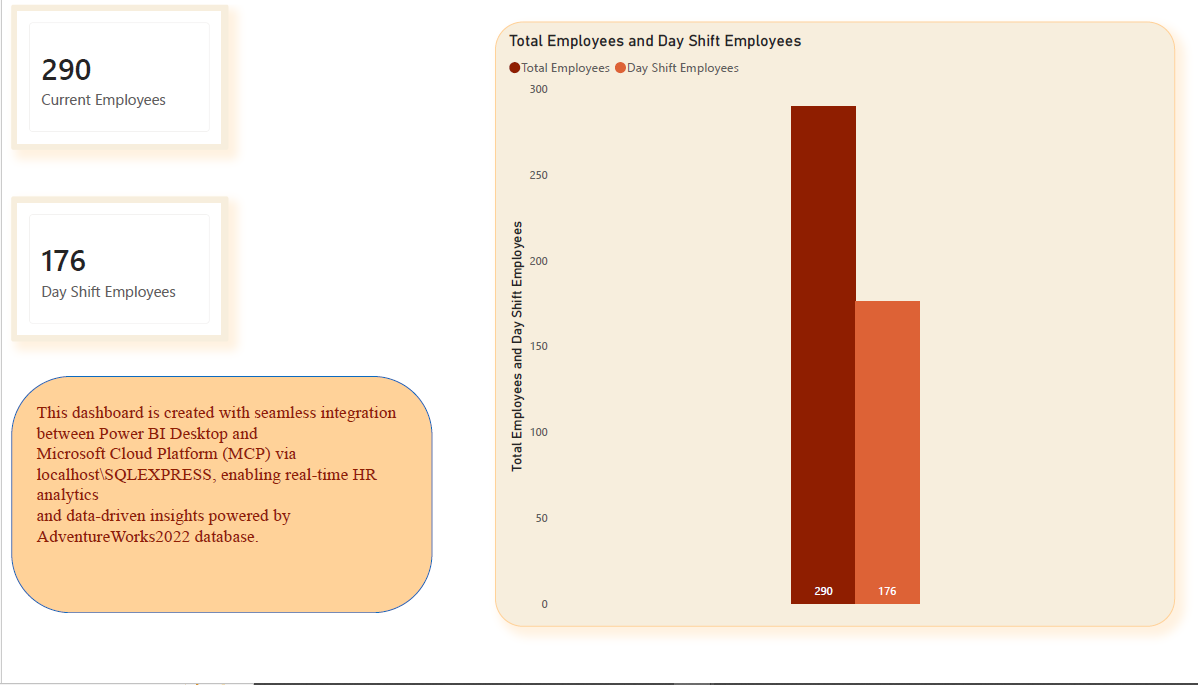

This screenshot's page, from the dashboard's own definition file:
{"tool":"powerbi","page":{"name":"Page 1","canvas":[1280,720],"ordinal":0},"visuals":[{"type":"cardVisual","fields":{"Data":["HumanResources Employee.Current Employees"]},"box":[10,0,231.7,155],"z":0},{"type":"cardVisual","fields":{"Data":["HumanResources Shift.Day Shift Employees"]},"box":[10,205,231.7,155],"z":1000},{"type":"clusteredColumnChart","fields":{"Y":["HumanResources Employee.Total Employees","HumanResources Shift.Day Shift Employees"]},"box":[526.7,18.3,726.7,646.7],"z":2000},{"type":"shape","box":[10,396.7,450,253.3],"z":3000},{"type":"textbox","box":[31.7,420,408.3,210],"z":4000}]}

Visuals, with their boxes in screenshot pixels (x1, y1, x2, y2), scaled from the page's 1280x720 canvas onto the 1198x685 screenshot:
cardVisual - HumanResources Employee.Current Employees: {"left": 9, "top": 0, "right": 226, "bottom": 147}
cardVisual - HumanResources Shift.Day Shift Employees: {"left": 9, "top": 195, "right": 226, "bottom": 342}
clusteredColumnChart - HumanResources Employee.Total Employees x HumanResources Shift.Day Shift Employees: {"left": 493, "top": 17, "right": 1173, "bottom": 633}
shape: {"left": 9, "top": 377, "right": 431, "bottom": 618}
textbox: {"left": 30, "top": 400, "right": 412, "bottom": 599}
